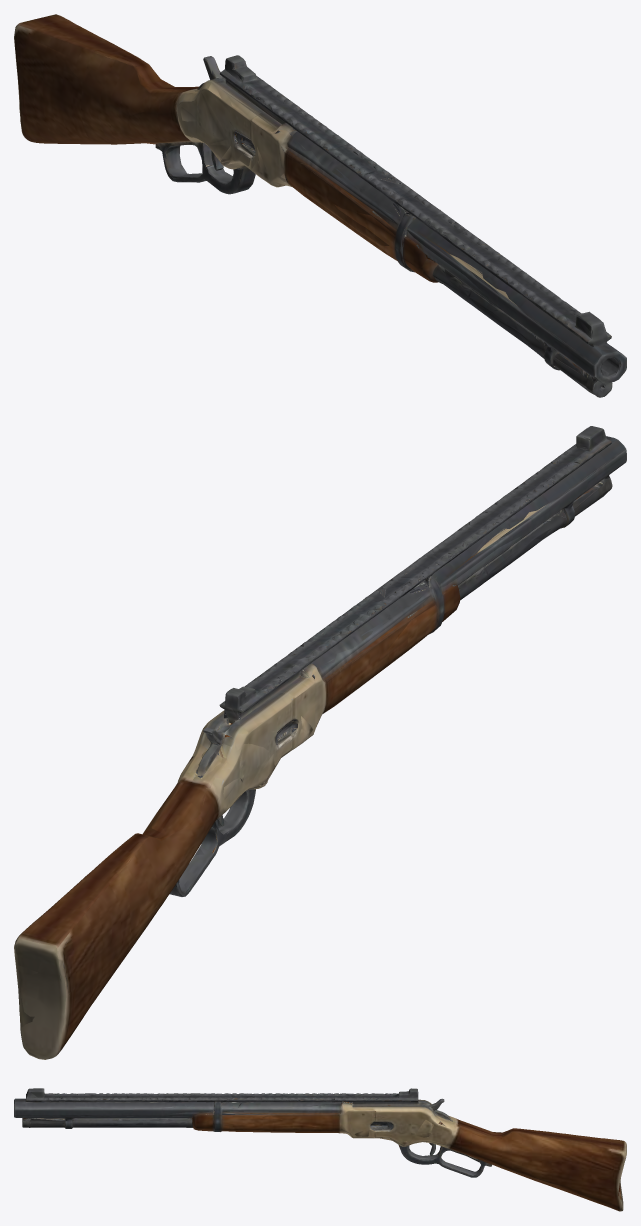
File: lever_repeater.glb
3 views of the same model, one above another, from view 1: azimuth 30°, elevation 25°; view 2: azimuth 150°, elevation 25°; view 3: azimuth 270°, elevation 25° (orthographic). The views are drawn at different scales.
Visible parts, largest first — view 1: model, mesh_lod; view 2: model, mesh_lod; view 3: model, mesh_lod.
Boxes of the visible parts, x1,y1,x2,y2 form: model: [14, 14, 626, 397]; mesh_lod: [15, 27, 625, 394]; model: [14, 426, 626, 1059]; mesh_lod: [15, 426, 625, 1056]; model: [14, 1088, 626, 1211]; mesh_lod: [14, 1089, 624, 1209].
Bounding box in the file's own units: 0.0522 × 0.2164 × 1.
1 material, 1 textured.
